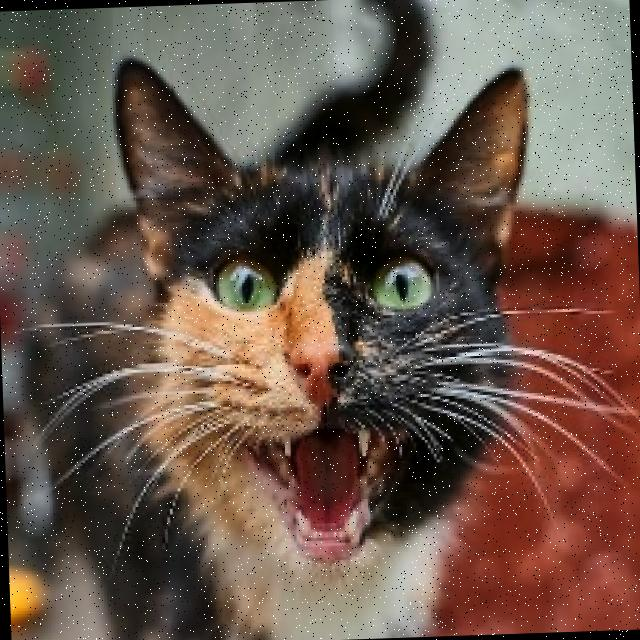Angry: (138, 211, 506, 588)
